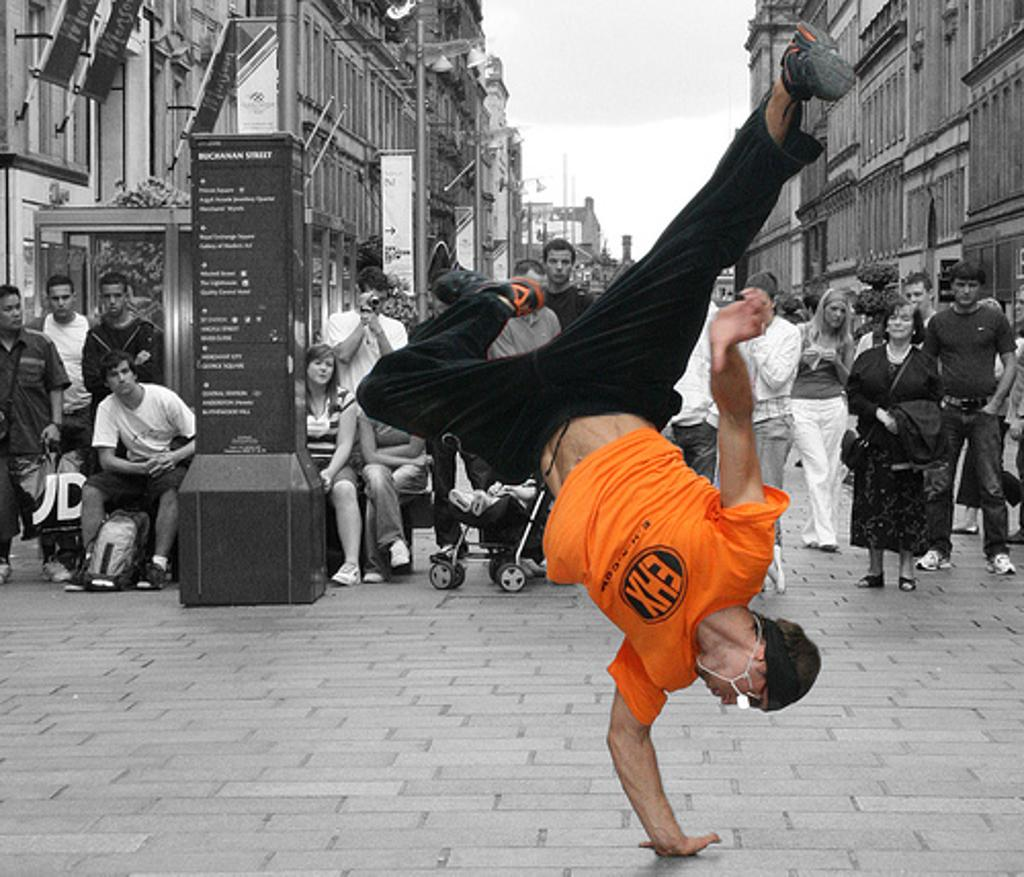face: (698, 655, 778, 711), (106, 362, 133, 395), (0, 293, 23, 330), (547, 249, 572, 283), (307, 353, 333, 384), (101, 283, 125, 316), (953, 275, 980, 304), (889, 307, 913, 338), (48, 286, 72, 316), (905, 283, 928, 312), (363, 288, 385, 316), (825, 300, 844, 327)
